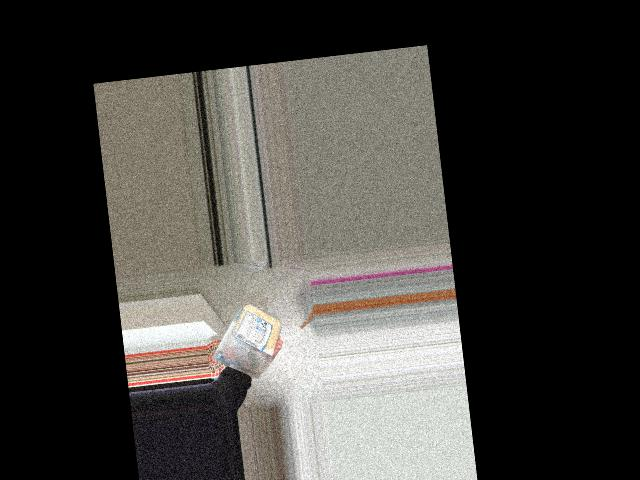cheese: (235, 300, 278, 369)
